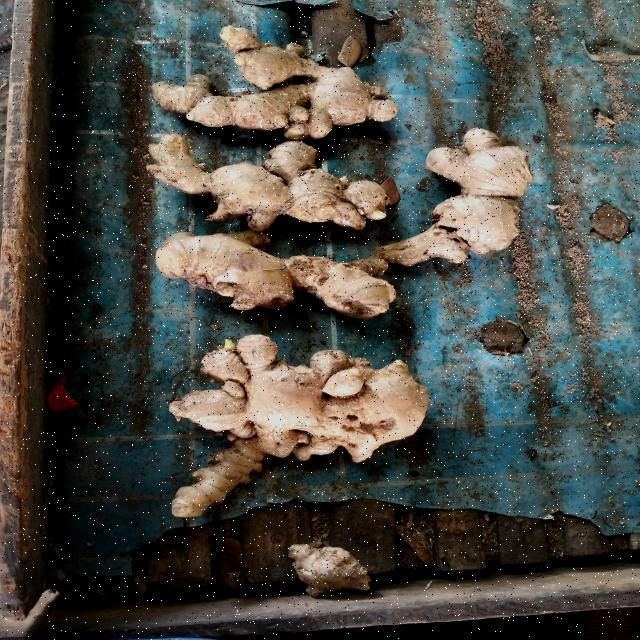ginger: (144, 324, 446, 524), (148, 13, 414, 137), (116, 231, 394, 332), (390, 117, 556, 286), (144, 129, 392, 237)
